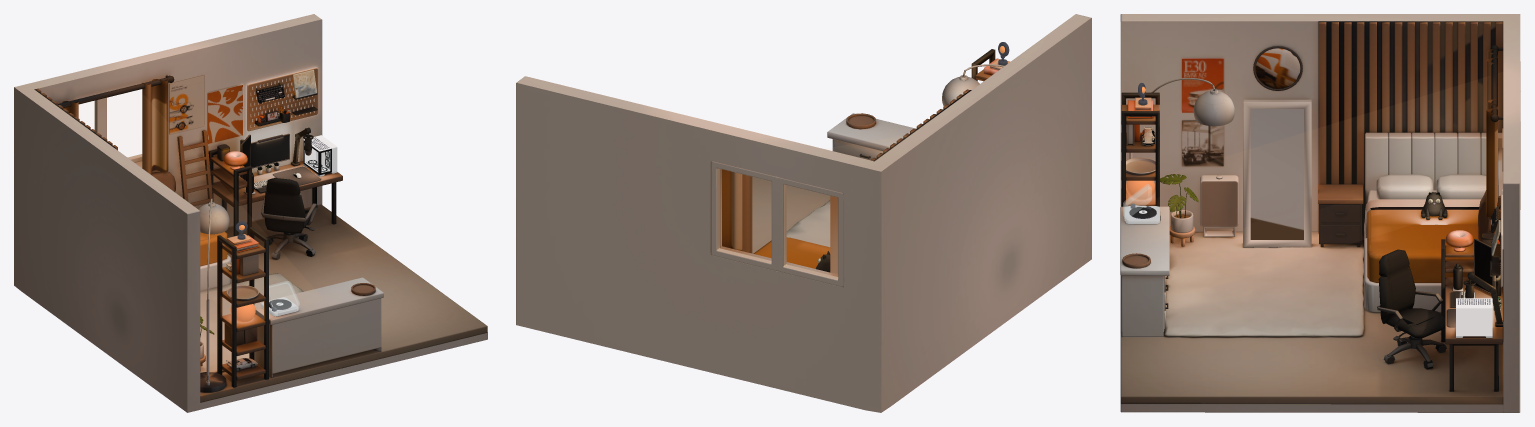
File: room-optimized.web.glb
3 views of the same model, side by side, from view 1: azimuth 30°, elevation 25°; view 2: azimuth 150°, elevation 25°; view 3: azimuth 270°, elevation 25° (orthographic). The views are drawn at different scales.
Visible parts, largest first — view 1: room_shell, room_props_a, room_props_b, floor_lamp, th_sunset_lamp, fx_sunbeam, th_vinylcovr; view 2: room_shell, room_props_b, room_props_a, floor_lamp; view 3: room_shell, room_props_a, room_props_b, floor_lamp, th_sunset_lamp, fx_sunbeam, th_orange_globe_lamp.
Part boxes in pixels (bbox=[...]): room_shell: bbox=[14, 14, 487, 412]; room_props_a: bbox=[58, 75, 342, 370]; room_props_b: bbox=[94, 67, 375, 371]; floor_lamp: bbox=[198, 151, 259, 392]; th_sunset_lamp: bbox=[235, 135, 337, 316]; fx_sunbeam: bbox=[269, 149, 329, 312]; th_vinylcovr: bbox=[292, 69, 316, 98]; room_shell: bbox=[516, 14, 1091, 412]; room_props_b: bbox=[711, 59, 1009, 287]; room_props_a: bbox=[722, 58, 1009, 274]; floor_lamp: bbox=[942, 64, 1004, 105]; room_shell: bbox=[1120, 14, 1520, 412]; room_props_a: bbox=[1126, 45, 1503, 391]; room_props_b: bbox=[1122, 58, 1520, 327]; floor_lamp: bbox=[1126, 46, 1473, 251]; th_sunset_lamp: bbox=[1124, 83, 1492, 336]; fx_sunbeam: bbox=[1123, 184, 1151, 218]; th_orange_globe_lamp: bbox=[1126, 180, 1154, 200].
Size of the model in its own units: 4.66 by 2.96 by 4.66.
12 materials, 12 textured.
